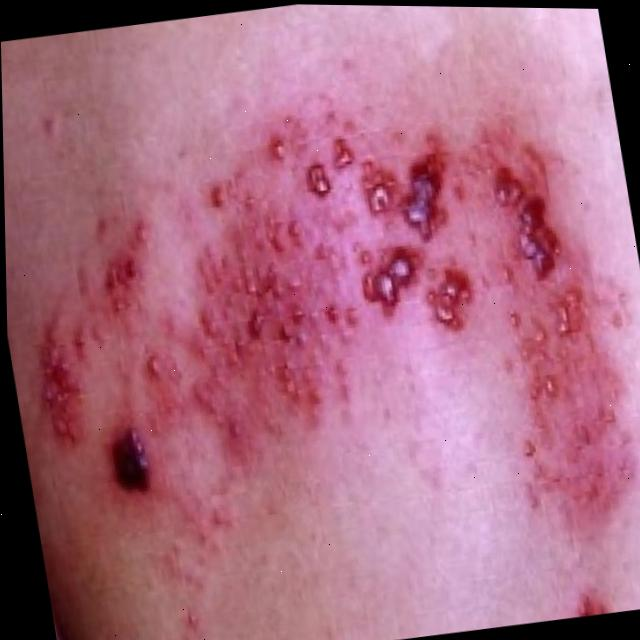Shingles: (2, 79, 640, 604)
